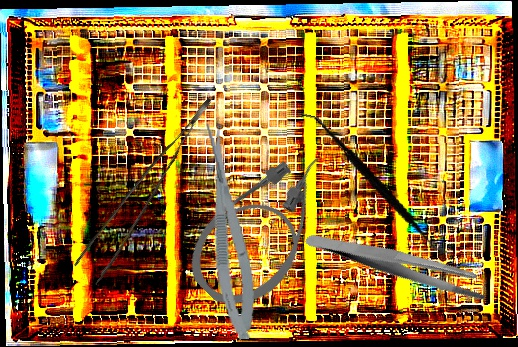Cannula: (171, 135, 361, 325)
Dressing Forceps: (304, 190, 493, 337)
Micro Scissor: (198, 120, 262, 342)
Spatula Surgical: (273, 112, 476, 257)
Tissue Forceps: (64, 97, 240, 286)
